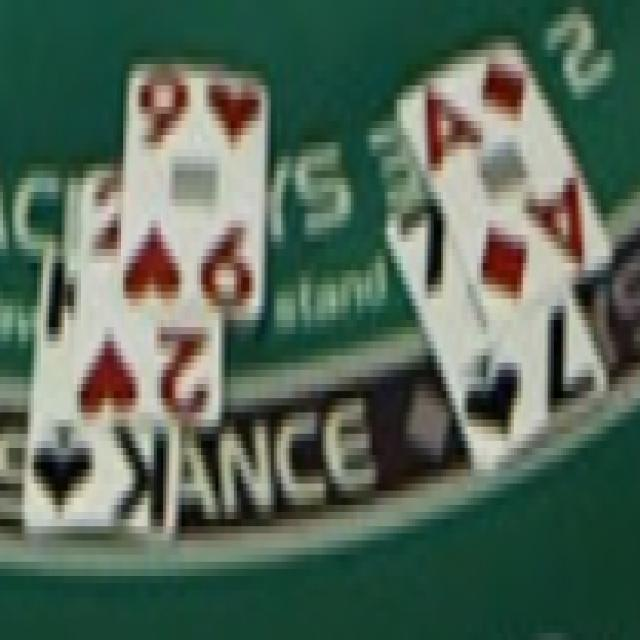Card-2: (77, 165, 219, 421)
Card-7: (385, 193, 608, 471)
Card-9: (124, 58, 267, 317)
Card-A: (398, 36, 613, 337)
Card-K: (22, 241, 180, 532)
